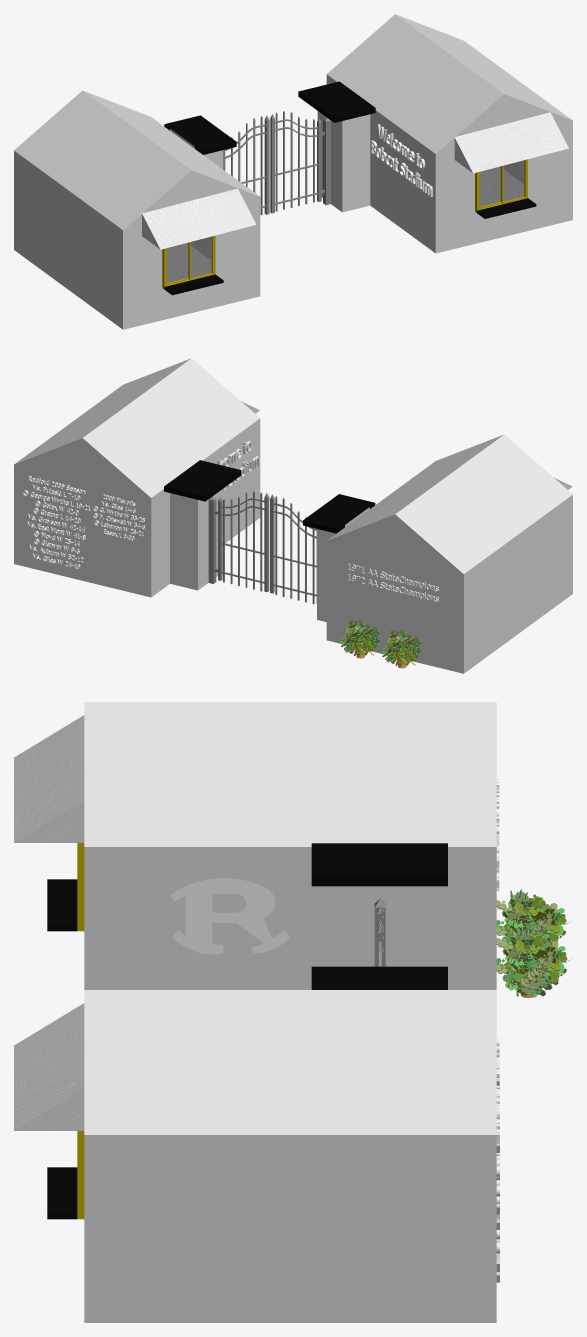
File: TicketBooth.fbx
3 views of the same model, one above another, from view 1: azimuth 30°, elevation 25°; view 2: azimuth 150°, elevation 25°; view 3: azimuth 270°, elevation 25° (orthographic). The views are drawn at different scales.
Parts seen in each view (by area): view 1: Mesh_17, windowSlider48x48, windowSlider48x48.001, Welcome to Bobc, post.003, post.001, post.004, post.005; view 2: Mesh_17, Radford 2009 Sea#2, ske15.001, ske15, 2009 Playoffs Vs, 1971 AA StateCha, post.003, Welcome to Bobc, post.004, post.001, post.005; view 3: Mesh_17, ske15, ske15.001, Radford 2009 Sea#2.
Part boxes in pixels (bbox=[...]): Mesh_17: bbox=[14, 14, 572, 329]; windowSlider48x48: bbox=[162, 235, 215, 288]; windowSlider48x48.001: bbox=[475, 159, 527, 212]; Welcome to Bobc: bbox=[371, 124, 432, 197]; post.003: bbox=[323, 117, 330, 205]; post.001: bbox=[264, 115, 269, 214]; post.004: bbox=[270, 114, 274, 213]; post.005: bbox=[317, 118, 321, 201]; Mesh_17: bbox=[14, 358, 572, 673]; Radford 2009 Sea#2: bbox=[23, 475, 90, 569]; ske15.001: bbox=[381, 629, 421, 668]; ske15: bbox=[340, 619, 379, 658]; 2009 Playoffs Vs: bbox=[93, 494, 145, 540]; 1971 AA StateCha: bbox=[347, 563, 438, 602]; post.003: bbox=[208, 496, 216, 583]; Welcome to Bobc: bbox=[217, 441, 259, 491]; post.004: bbox=[264, 493, 269, 592]; post.001: bbox=[270, 494, 274, 593]; post.005: bbox=[218, 497, 222, 580]; Mesh_17: bbox=[14, 702, 496, 1322]; ske15: bbox=[496, 927, 569, 997]; ske15.001: bbox=[496, 889, 570, 946]; Radford 2009 Sea#2: bbox=[496, 1085, 499, 1282].
Size of the model in its own units: 10.7 by 3.24 by 6.1.
